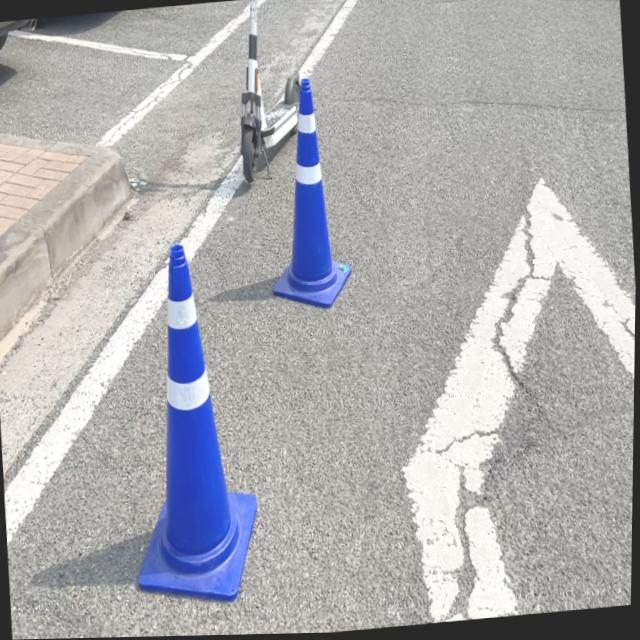b_rub: (140, 243, 258, 602), (274, 78, 352, 308)
